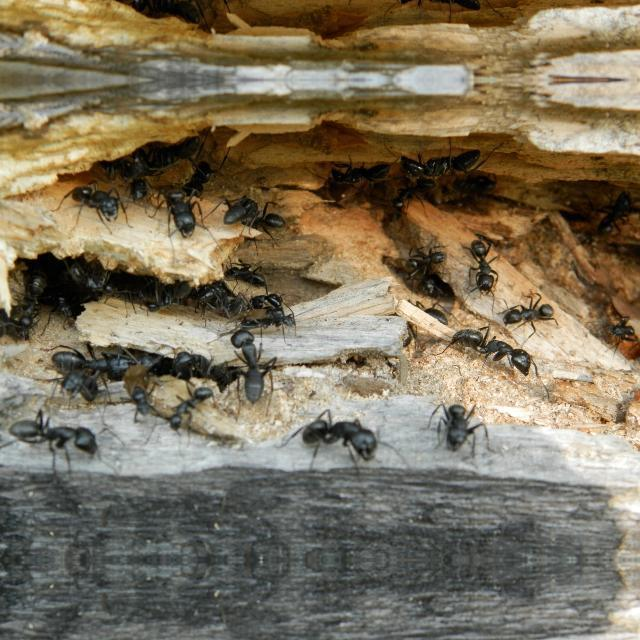Camponotus: (286, 396, 399, 478), (2, 400, 118, 476), (442, 311, 548, 389), (418, 390, 492, 470), (396, 136, 506, 188), (230, 322, 290, 412), (45, 330, 137, 378), (153, 180, 217, 246), (496, 276, 564, 336), (55, 168, 119, 226), (458, 230, 508, 304), (164, 338, 236, 388), (180, 139, 232, 199), (590, 173, 636, 240), (218, 278, 288, 320), (160, 382, 214, 436), (315, 154, 393, 190), (138, 264, 192, 316), (46, 365, 106, 411), (404, 228, 450, 288), (11, 267, 54, 331), (396, 0, 506, 24), (592, 297, 640, 351), (69, 252, 119, 302), (193, 272, 239, 320), (237, 193, 283, 239), (222, 253, 274, 289), (214, 185, 253, 222), (180, 0, 232, 20)
